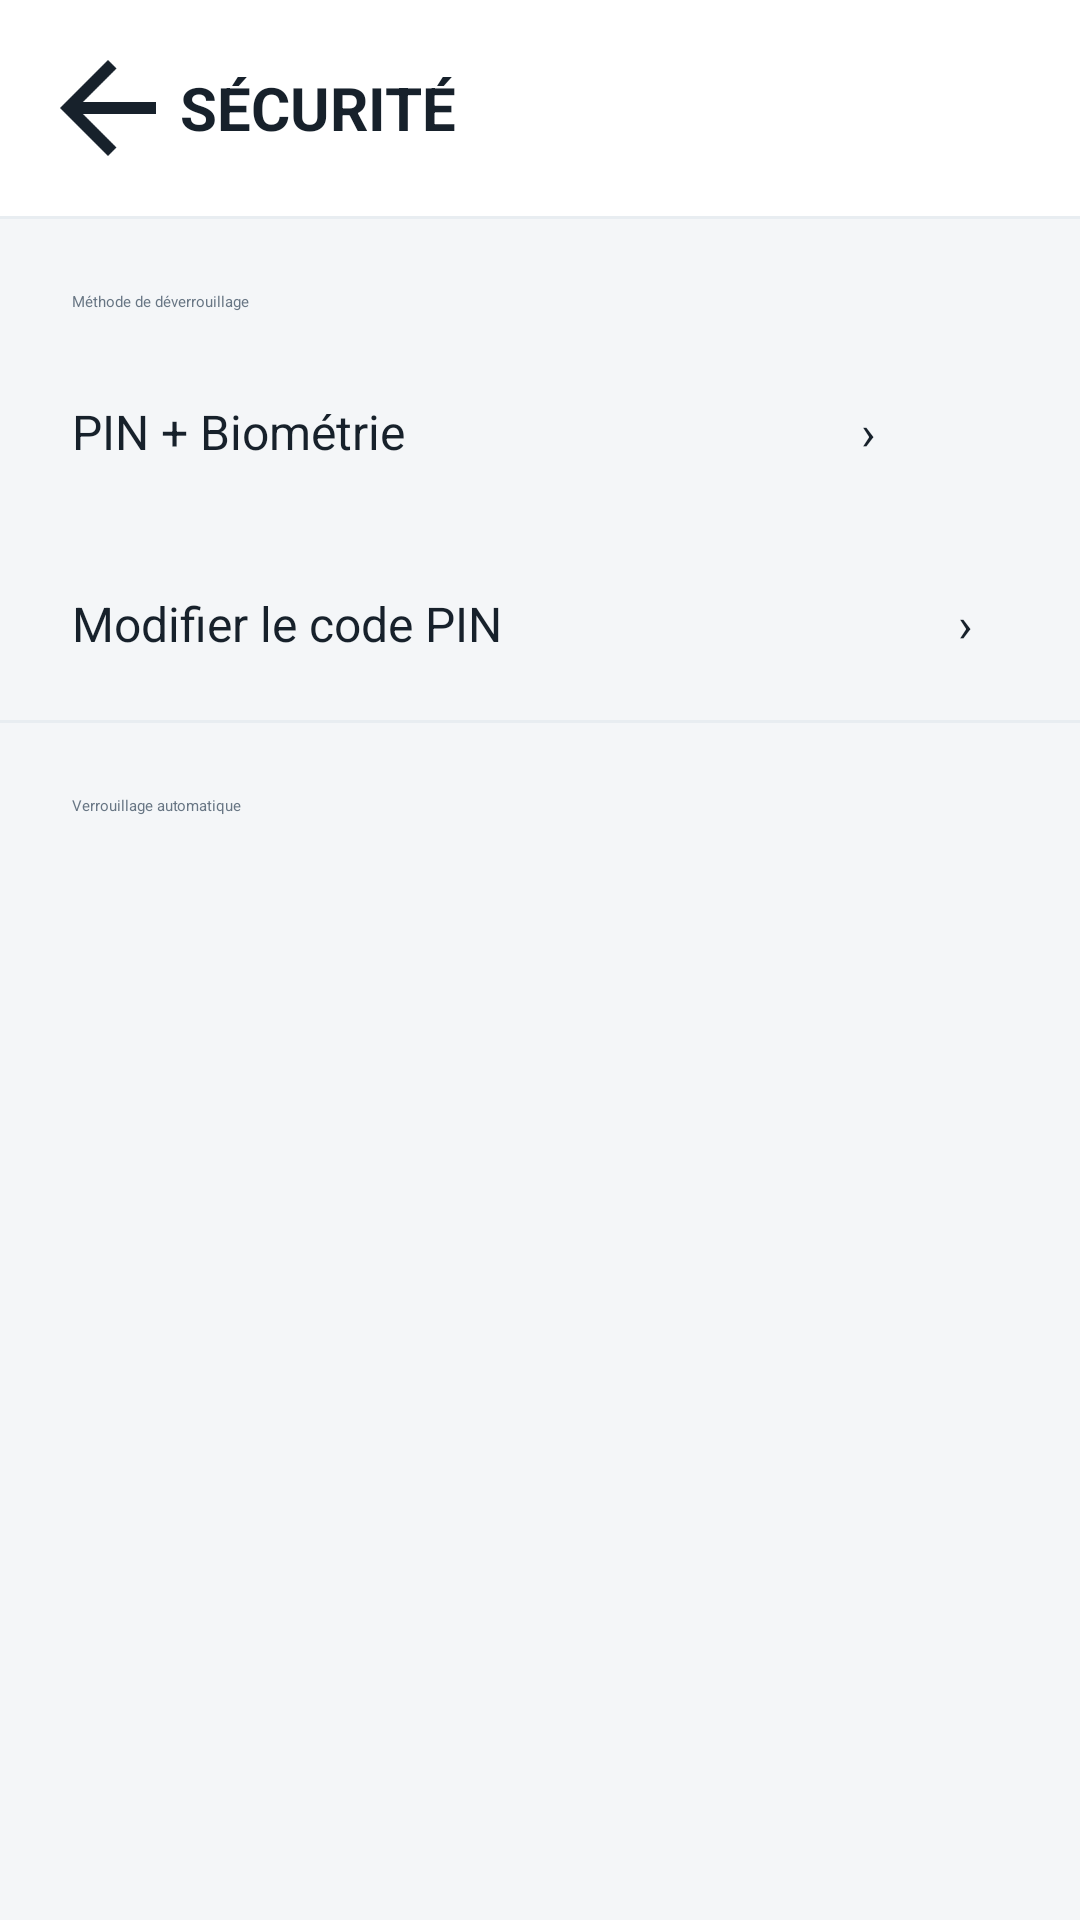

Screen size 1080 × 1920. Icon name, then its center in pixels as (x=x, y=y):
Retour: (x=108, y=108)
